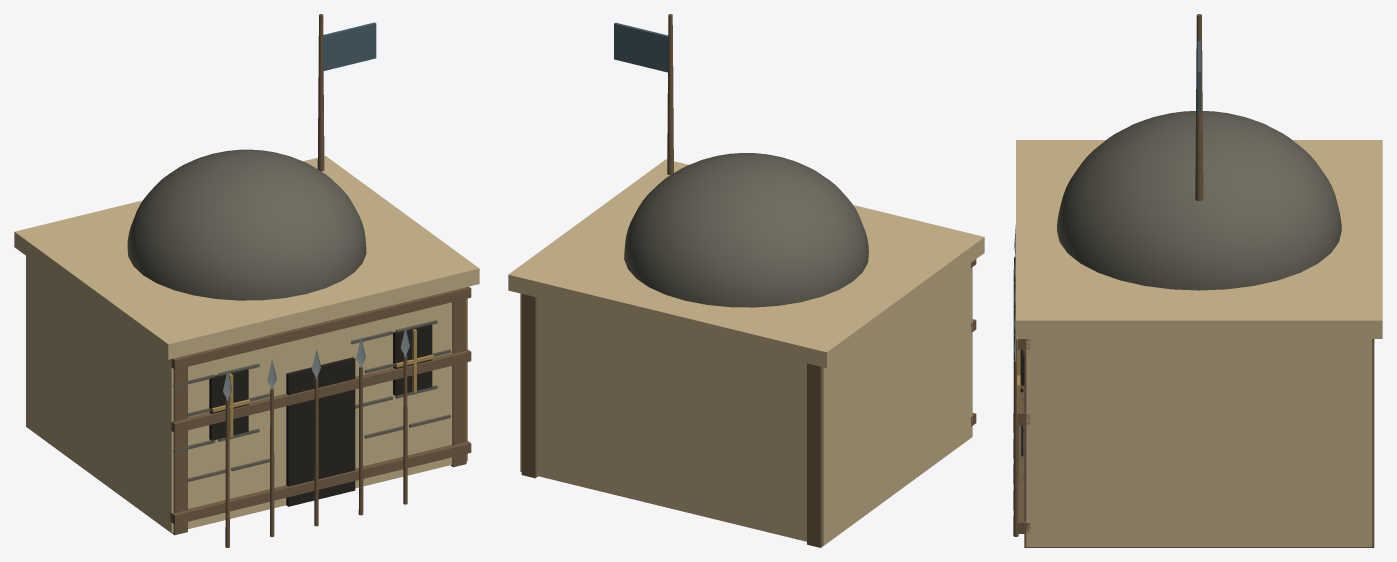
Rendered from b-barracks-ayyubid.glb.
The picture shows the model from 3 angles, left to right: view 1: azimuth 30°, elevation 25°; view 2: azimuth 150°, elevation 25°; view 3: azimuth 270°, elevation 25°; orthographic projection. The views are drawn at different scales.
Parts seen in each view (by area): view 1: Structure, weaponRack4, weaponRack2, weaponRack0, weaponRack1, weaponRack3; view 2: Structure; view 3: Structure, weaponRack4.
Part boxes in pixels (x1,y1,x2,y2): Structure: (14,14,479,535); weaponRack4: (400,327,410,504); weaponRack2: (311,349,321,526); weaponRack0: (223,370,232,547); weaponRack1: (267,359,276,536); weaponRack3: (356,338,365,515); Structure: (508,14,984,547); Structure: (1016,14,1382,547); weaponRack4: (1013,328,1018,536).
Bounding box in the file's own units: 4.2 × 5.6 × 3.63.
